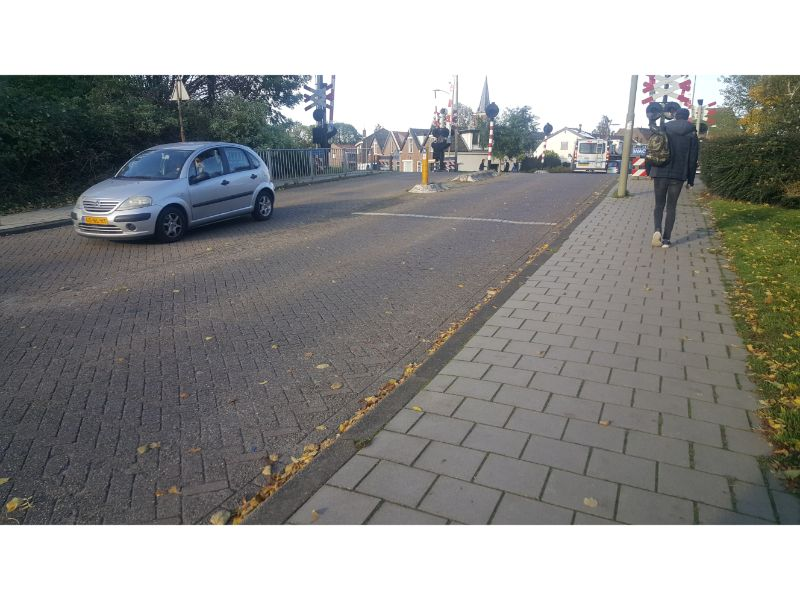kenteken: (82, 215, 107, 224)
